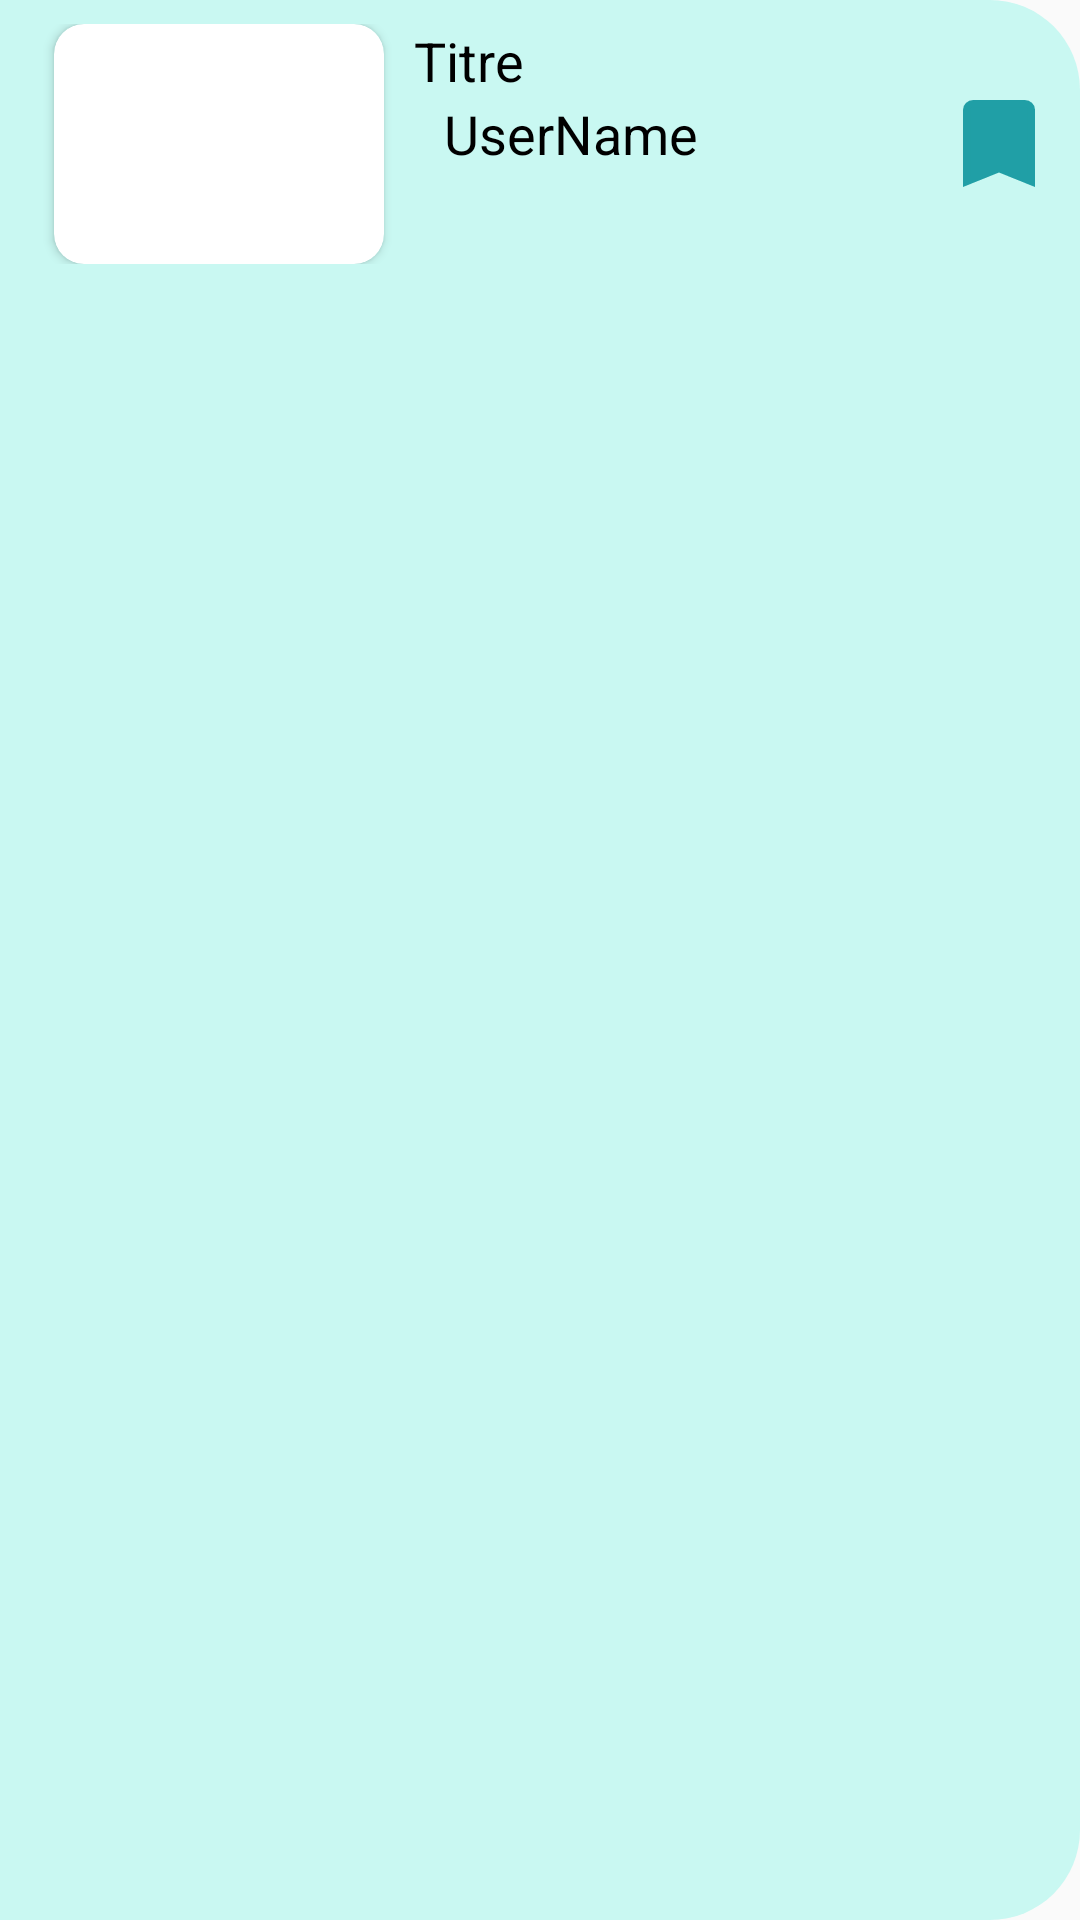

Point at icon controls on the screen. Image size 1080 × 1920, points as [x,y].
save post: [999,143]
